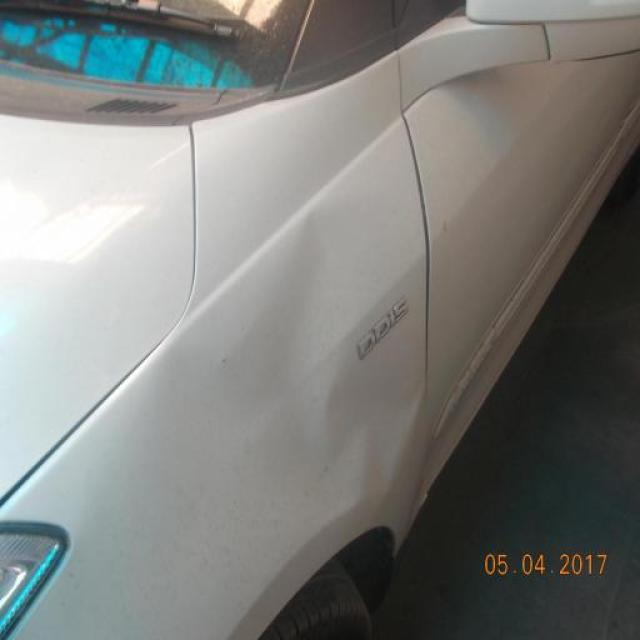dent: (220, 208, 432, 519)
